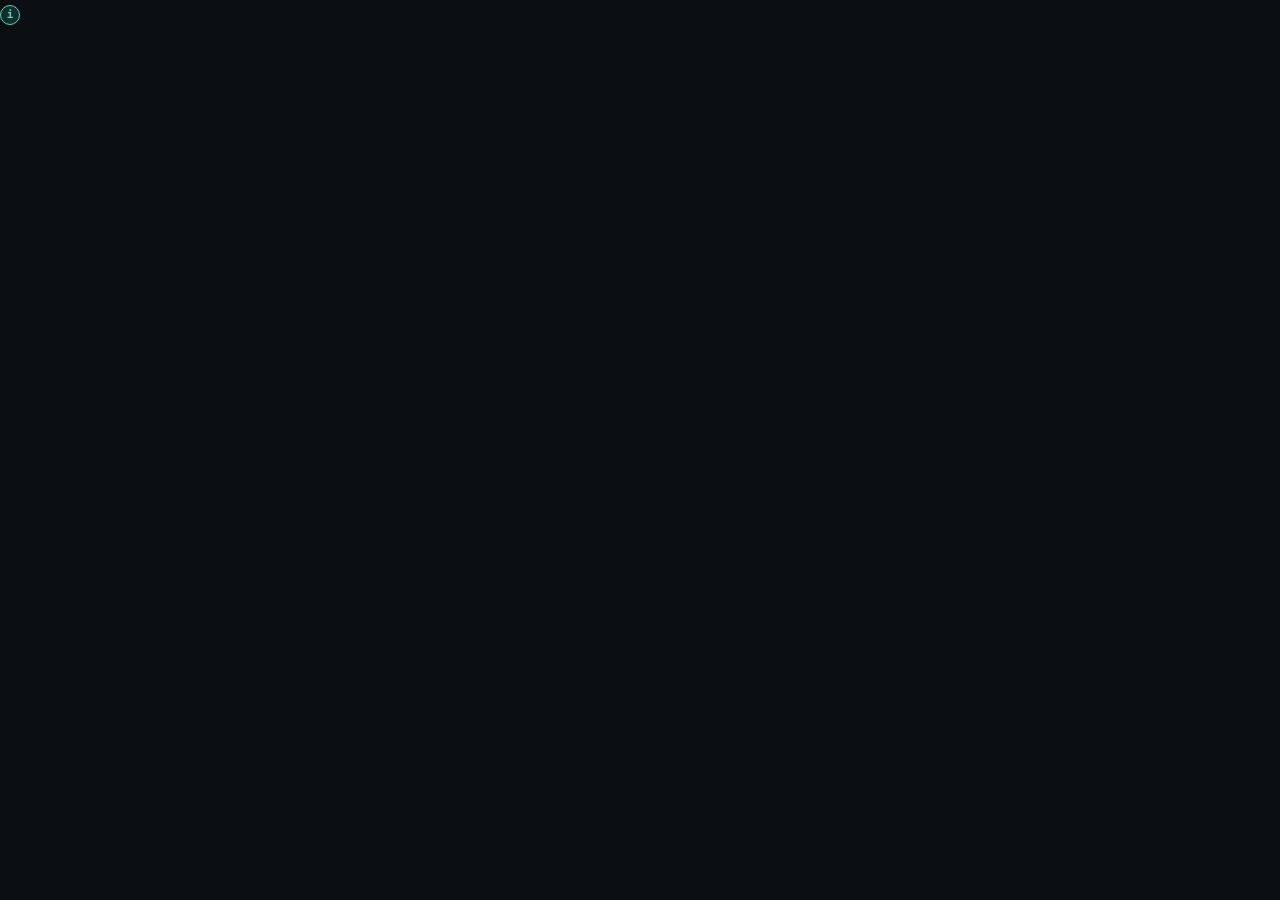
pulsante di spiegazione › apre la spiegazione in un dialogo e la richiude
The image size is (1280, 900).
Click the button named "cosa significa": coordinates (10, 14) [0,4,20,24]
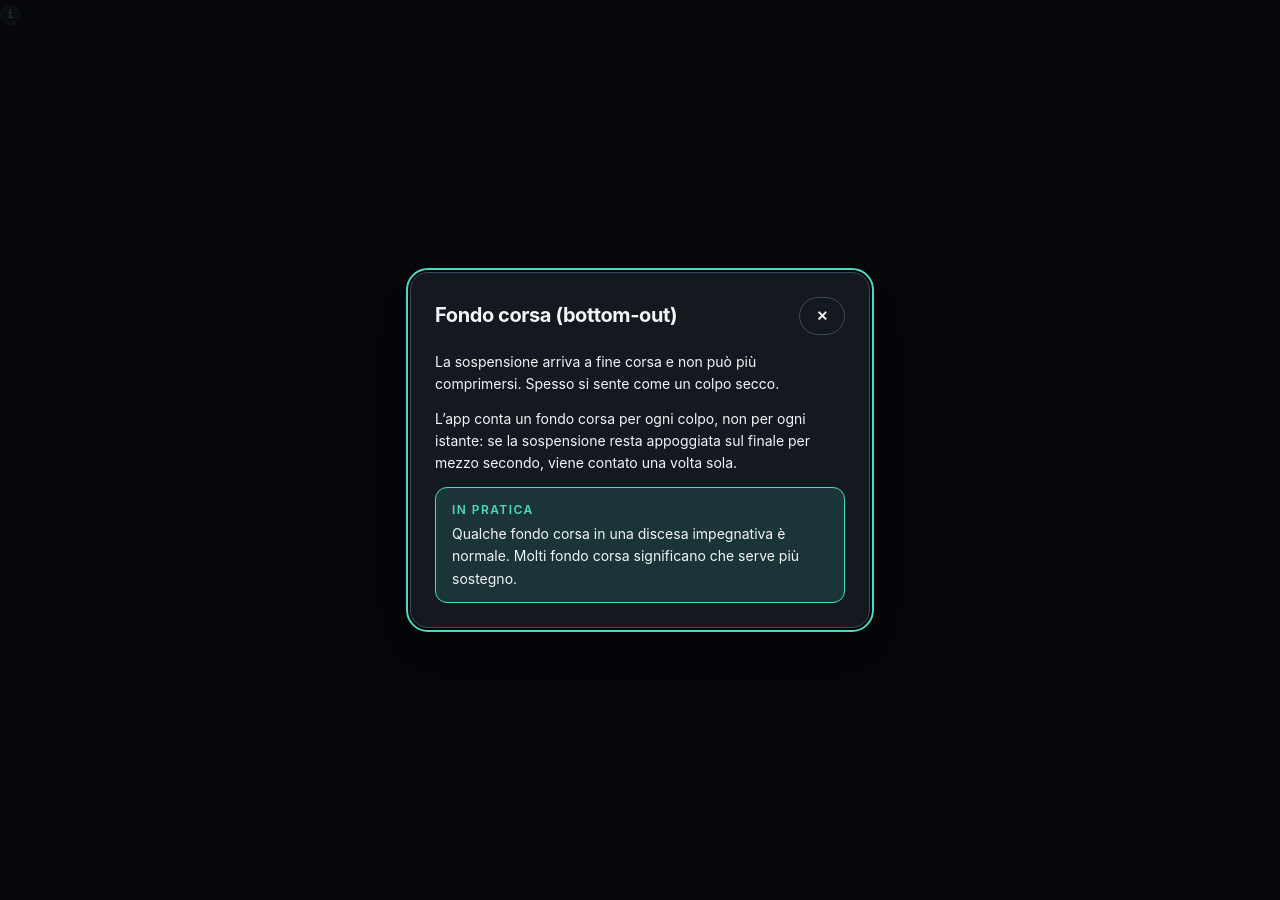
Now the text "non può più comprimersi" is shown, box [435,353,779,392]
Press Escape
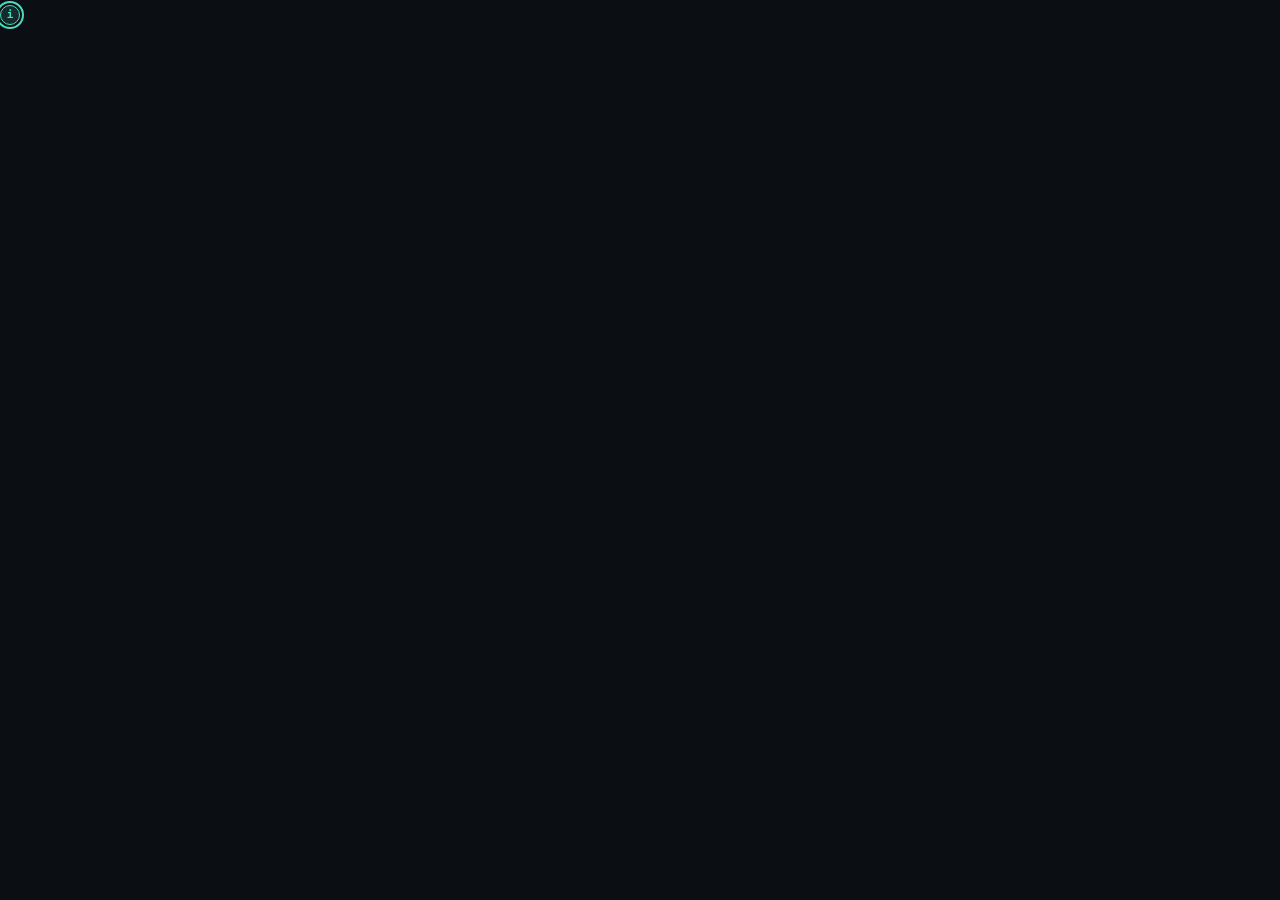
Now the dialog is gone
